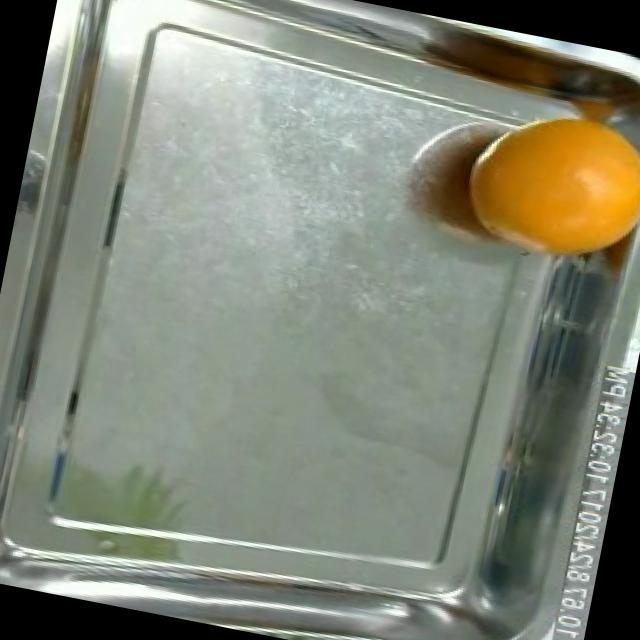Fruit: (434, 89, 640, 294)
